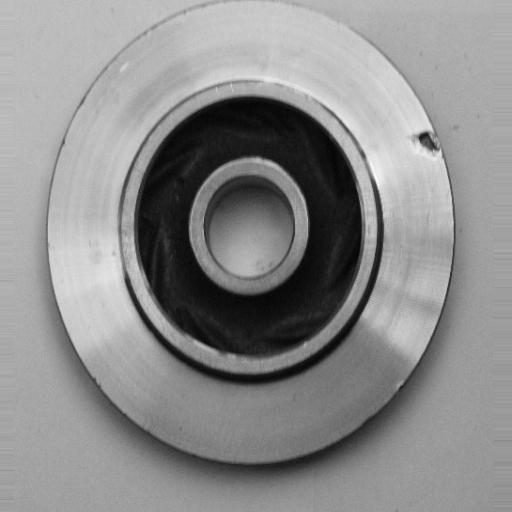crack: (404, 122, 457, 168)
scratch: (248, 68, 332, 104)
unpolished_casting: (48, 0, 463, 478)
